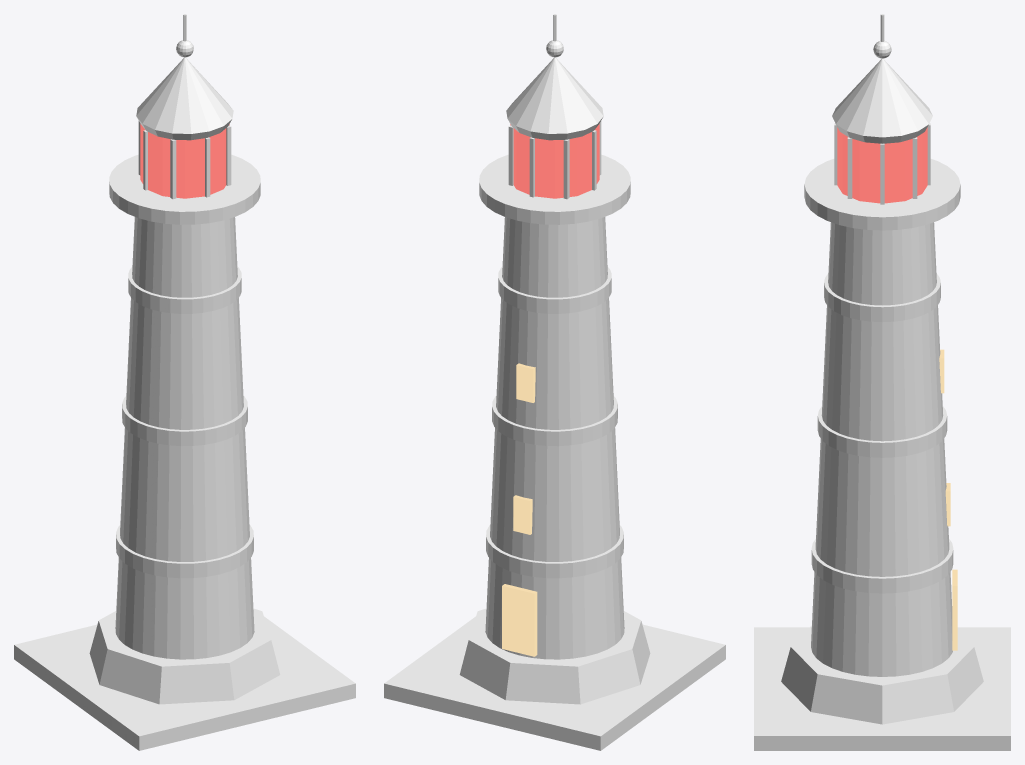
File: SA-001_Beacon_Lighthouse.glb
3 renders of one model, left to right at view 1: azimuth 30°, elevation 25°; view 2: azimuth 150°, elevation 25°; view 3: azimuth 270°, elevation 25°, orthographic. The views are drawn at different scales.
Visible parts, largest first — view 1: Body_Core, Building_Plinth, Body_Core_Plinth, Gallery_Deck, Cone_Roof, Lantern_Room, Body_Band_0, Body_Band_1, Body_Band_2, Top_Ring; view 2: Body_Core, Building_Plinth, Body_Core_Plinth, Gallery_Deck, Cone_Roof, Lantern_Room, Body_Band_0, Lighthouse_Door, Body_Band_1, Body_Band_2, Tower_Window_1, Tower_Window_0 (+1 smaller); view 3: Body_Core, Building_Plinth, Body_Core_Plinth, Gallery_Deck, Cone_Roof, Lantern_Room, Body_Band_0, Body_Band_1, Body_Band_2, Top_Ring, Lighthouse_Door.
Boxes of the visible parts, bbox=[...] form: Body_Core: bbox=[115, 217, 254, 659]; Building_Plinth: bbox=[14, 616, 355, 750]; Body_Core_Plinth: bbox=[89, 608, 280, 704]; Gallery_Deck: bbox=[109, 154, 260, 224]; Cone_Roof: bbox=[136, 57, 233, 133]; Lantern_Room: bbox=[140, 124, 229, 198]; Body_Band_0: bbox=[116, 525, 253, 578]; Body_Band_1: bbox=[122, 395, 247, 446]; Body_Band_2: bbox=[128, 266, 241, 313]; Top_Ring: bbox=[137, 117, 231, 140]; Body_Core: bbox=[485, 217, 624, 659]; Building_Plinth: bbox=[384, 616, 725, 750]; Body_Core_Plinth: bbox=[459, 608, 650, 704]; Gallery_Deck: bbox=[479, 154, 630, 224]; Cone_Roof: bbox=[506, 57, 603, 133]; Lantern_Room: bbox=[510, 124, 599, 198]; Body_Band_0: bbox=[486, 525, 623, 578]; Lighthouse_Door: bbox=[502, 584, 537, 656]; Body_Band_1: bbox=[492, 395, 617, 446]; Body_Band_2: bbox=[498, 266, 611, 313]; Tower_Window_1: bbox=[516, 363, 535, 402]; Tower_Window_0: bbox=[513, 495, 532, 534]; Body_Core: bbox=[811, 222, 952, 676]; Building_Plinth: bbox=[754, 627, 1010, 750]; Body_Core_Plinth: bbox=[781, 625, 983, 724]; Gallery_Deck: bbox=[804, 159, 960, 230]; Cone_Roof: bbox=[832, 58, 932, 137]; Lantern_Room: bbox=[837, 127, 927, 203]; Body_Band_0: bbox=[811, 539, 953, 593]; Body_Band_1: bbox=[817, 406, 947, 457]; Body_Band_2: bbox=[824, 273, 940, 322]; Top_Ring: bbox=[836, 124, 928, 143]; Lighthouse_Door: bbox=[952, 569, 957, 650].
Bounding box in the file's own units: 2.8 × 8.2 × 2.8.
